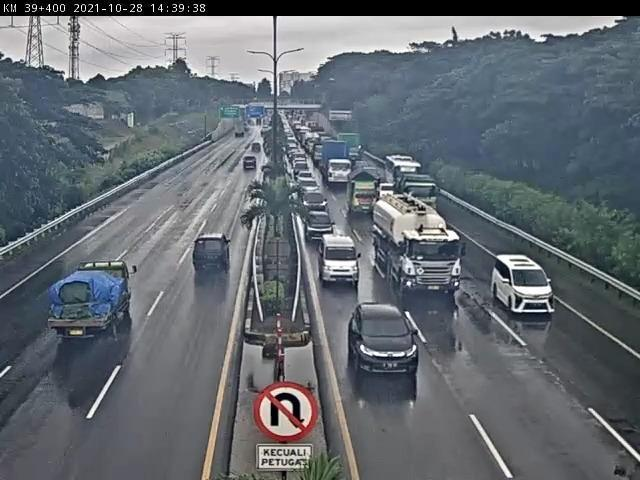car: (345, 307, 407, 379), (185, 228, 254, 279), (512, 258, 564, 314), (319, 224, 353, 266), (305, 206, 331, 233), (302, 186, 326, 204), (242, 153, 261, 175), (246, 138, 266, 158), (300, 164, 316, 184)
truck: (30, 248, 145, 383), (362, 187, 445, 273), (344, 169, 372, 206)
